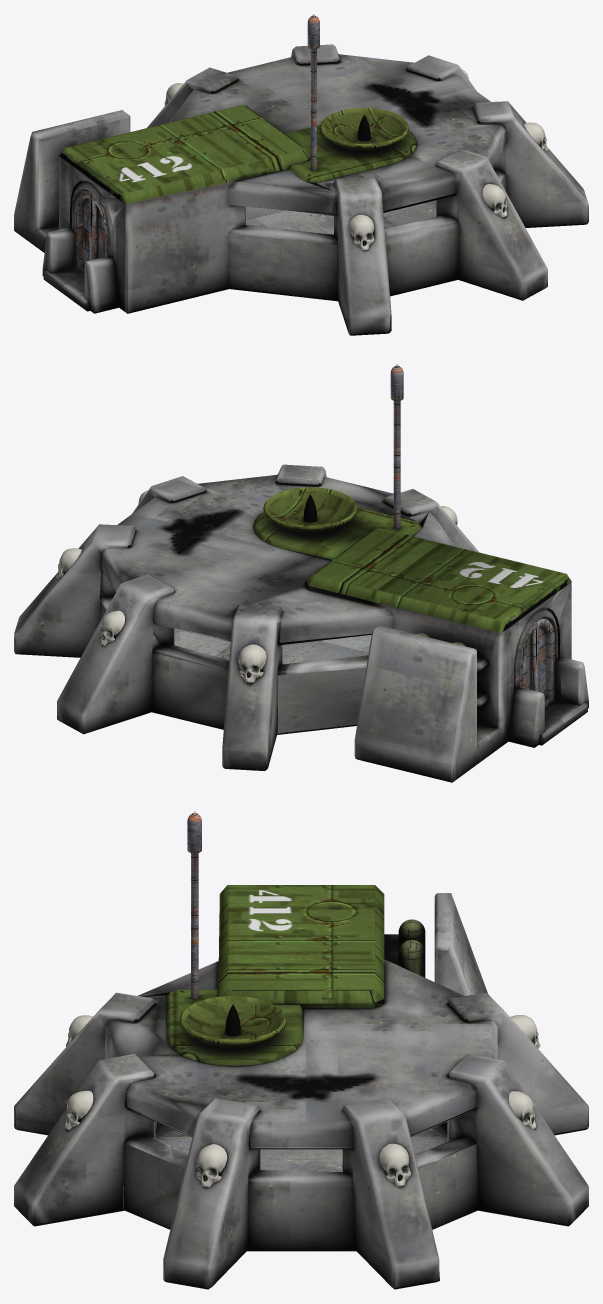
The model's file is bunker.gltf.
3 views of the same model, one above another, from view 1: azimuth 30°, elevation 25°; view 2: azimuth 150°, elevation 25°; view 3: azimuth 270°, elevation 25° (orthographic). The views are drawn at different scales.
Visible parts, largest first — view 1: node-0; view 2: node-0; view 3: node-0.
Part boxes in pixels (box(x1,y1,x2,y2)): node-0: box(14, 14, 588, 335); node-0: box(14, 364, 588, 782); node-0: box(14, 811, 588, 1289).
Size of the model in its own units: 124 by 65.4 by 107.
14 materials, 14 textured.
